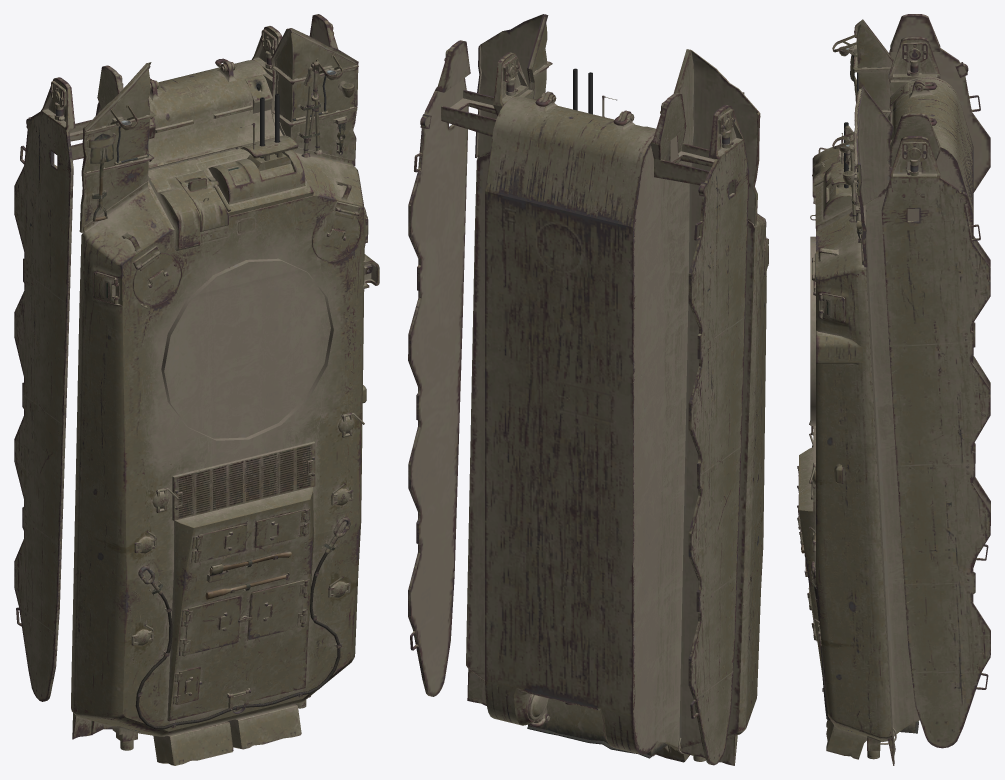
The model's file is Hull.glb.
3 views of the same model, side by side, from view 1: azimuth 30°, elevation 25°; view 2: azimuth 150°, elevation 25°; view 3: azimuth 270°, elevation 25° (orthographic). The views are drawn at different scales.
Visible parts, largest first — view 1: set_0_group_0; view 2: set_0_group_0; view 3: set_0_group_0.
Part boxes in pixels (left/top/right/bottom): set_0_group_0: left=14, top=14, right=379, bottom=765; set_0_group_0: left=408, top=14, right=768, bottom=765; set_0_group_0: left=797, top=14, right=990, bottom=765.
Size of the model in its own units: 3.13 by 7.56 by 1.96.
1 material, 1 textured.
